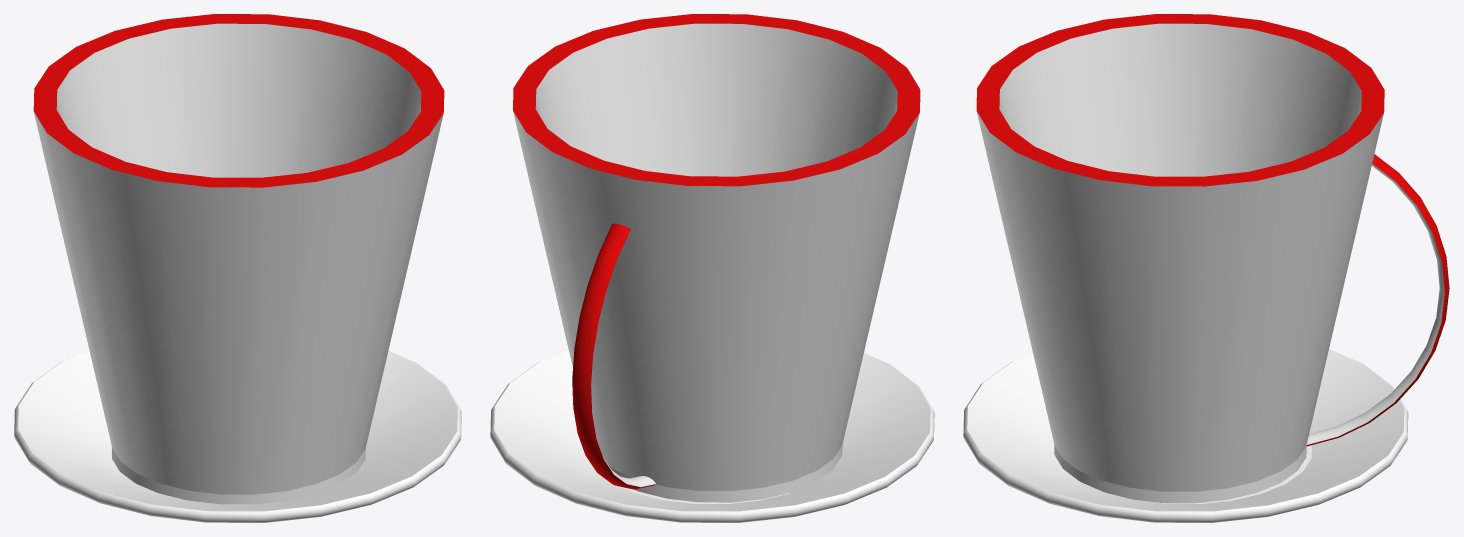
3 views of the same model, side by side, from view 1: azimuth 30°, elevation 25°; view 2: azimuth 150°, elevation 25°; view 3: azimuth 270°, elevation 25° (orthographic).
Visible parts, largest first — view 1: mesh4_mesh4-geometry, mesh5_mesh5-geometry, mesh4_mesh4-geometry_1; view 2: mesh4_mesh4-geometry, mesh5_mesh5-geometry, mesh4_mesh4-geometry_1, mesh1_mesh1-geometry; view 3: mesh4_mesh4-geometry, mesh5_mesh5-geometry, mesh4_mesh4-geometry_1, mesh1_mesh1-geometry_1, mesh1_mesh1-geometry.
Part boxes in pixels (x1,y1,x2,y2): mesh4_mesh4-geometry: [34, 23, 443, 504]; mesh5_mesh5-geometry: [14, 350, 461, 522]; mesh4_mesh4-geometry_1: [33, 14, 444, 187]; mesh4_mesh4-geometry: [513, 23, 919, 502]; mesh5_mesh5-geometry: [490, 350, 934, 522]; mesh4_mesh4-geometry_1: [513, 14, 920, 186]; mesh1_mesh1-geometry: [572, 223, 655, 489]; mesh4_mesh4-geometry: [976, 23, 1383, 503]; mesh5_mesh5-geometry: [963, 349, 1408, 522]; mesh4_mesh4-geometry_1: [976, 14, 1384, 186]; mesh1_mesh1-geometry_1: [1306, 164, 1444, 445]; mesh1_mesh1-geometry: [1306, 154, 1449, 446].
Size of the model in its own units: 0.5777 by 0.5175 by 0.6312.
